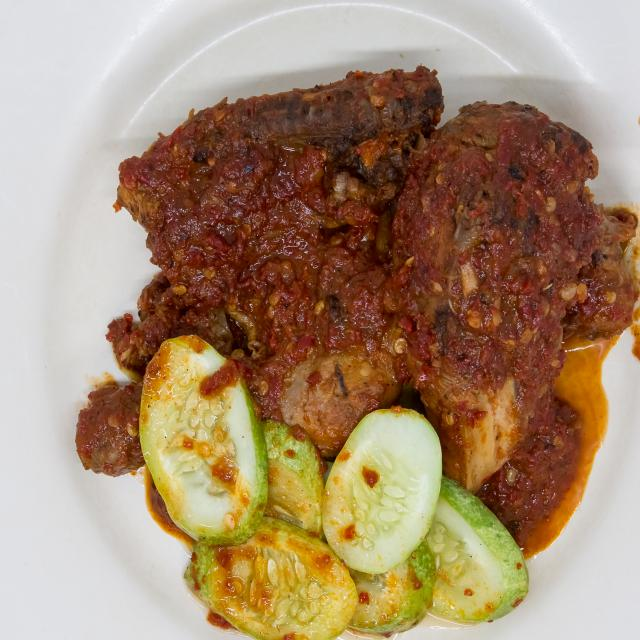Ayam-Bumbu-Rujak: (71, 63, 630, 583)
